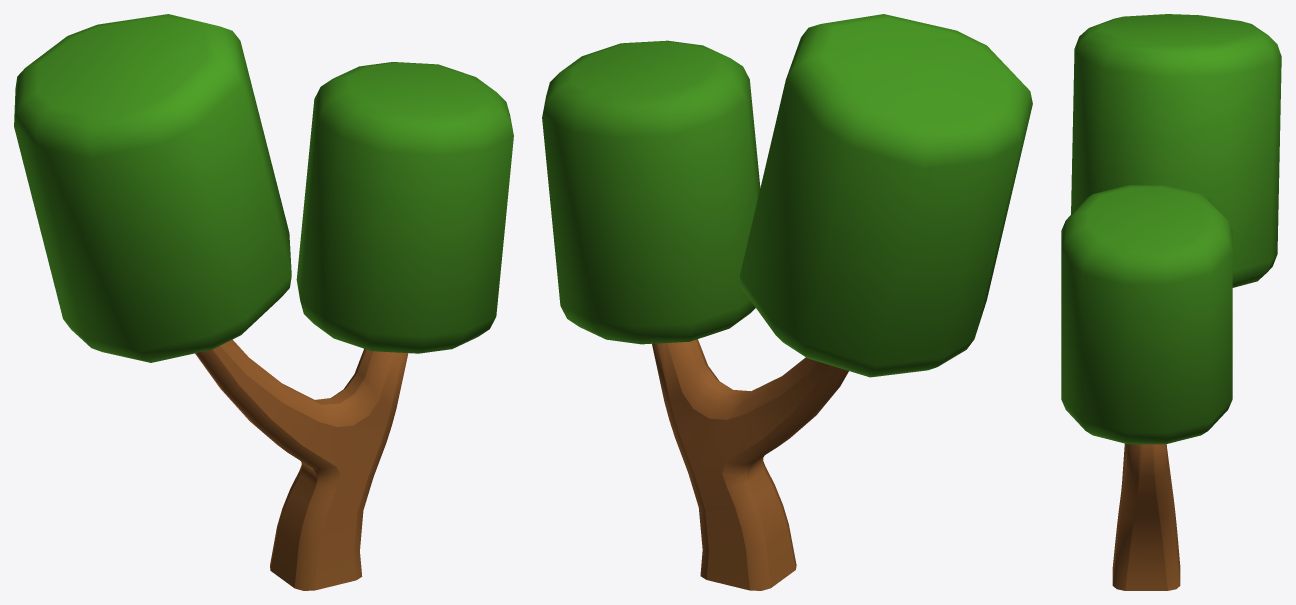
File: Tree_1_1.fbx
The picture shows the model from 3 angles, left to right: view 1: azimuth 30°, elevation 25°; view 2: azimuth 150°, elevation 25°; view 3: azimuth 270°, elevation 25°; orthographic projection. The views are drawn at different scales.
Parts seen in each view (by area): view 1: Tree_1_1; view 2: Tree_1_1; view 3: Tree_1_1.
Boxes of the visible parts, bbox=[...] form: Tree_1_1: bbox=[14, 14, 513, 590]; Tree_1_1: bbox=[542, 14, 1032, 590]; Tree_1_1: bbox=[1061, 14, 1281, 590].
Bounding box in the file's own units: 297 × 349 × 143.
